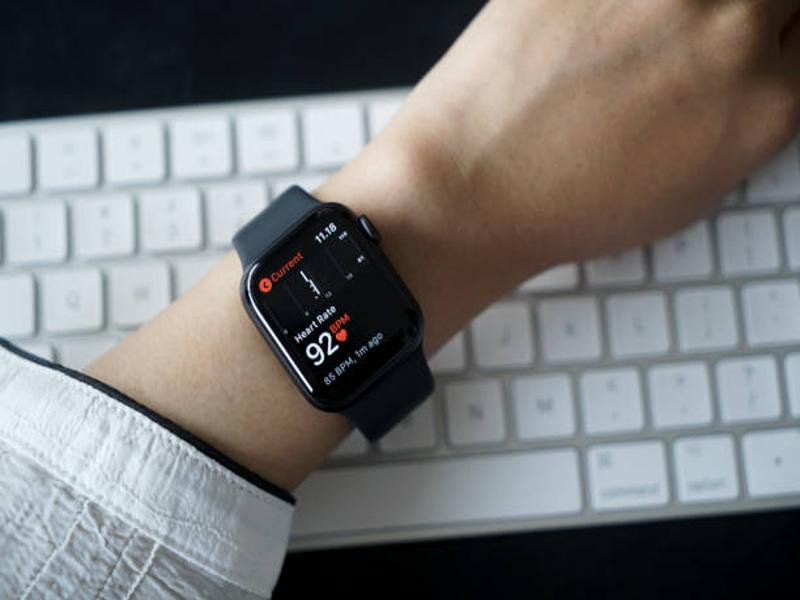watch: (232, 185, 439, 442)
